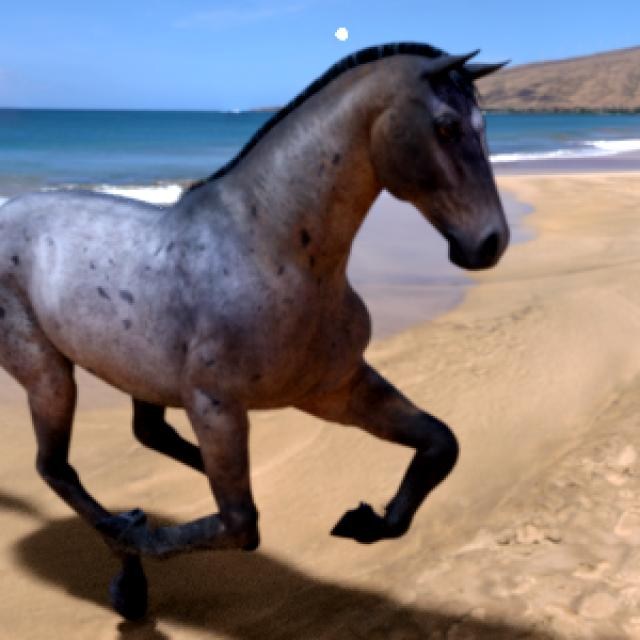horse: (0, 44, 509, 618)
